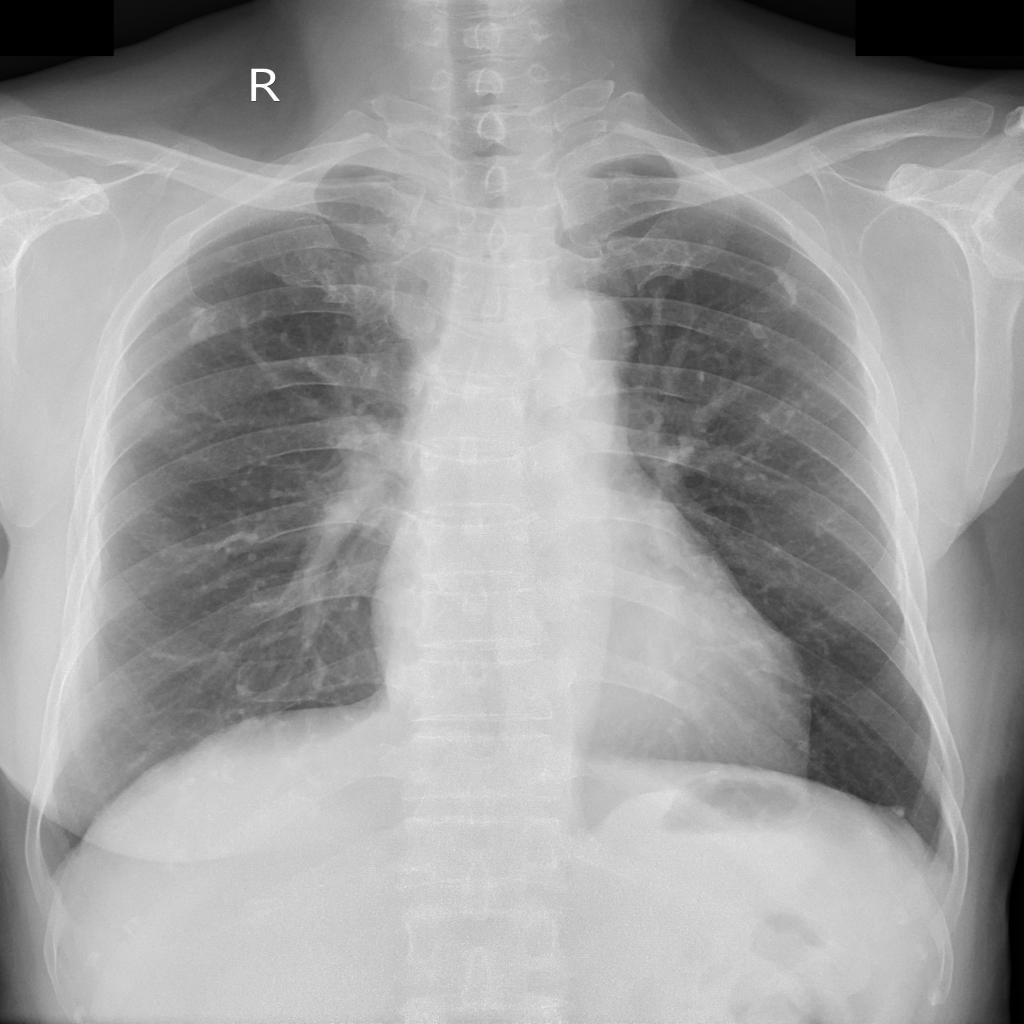Nodule: (774, 262, 799, 305), (749, 321, 773, 350)
